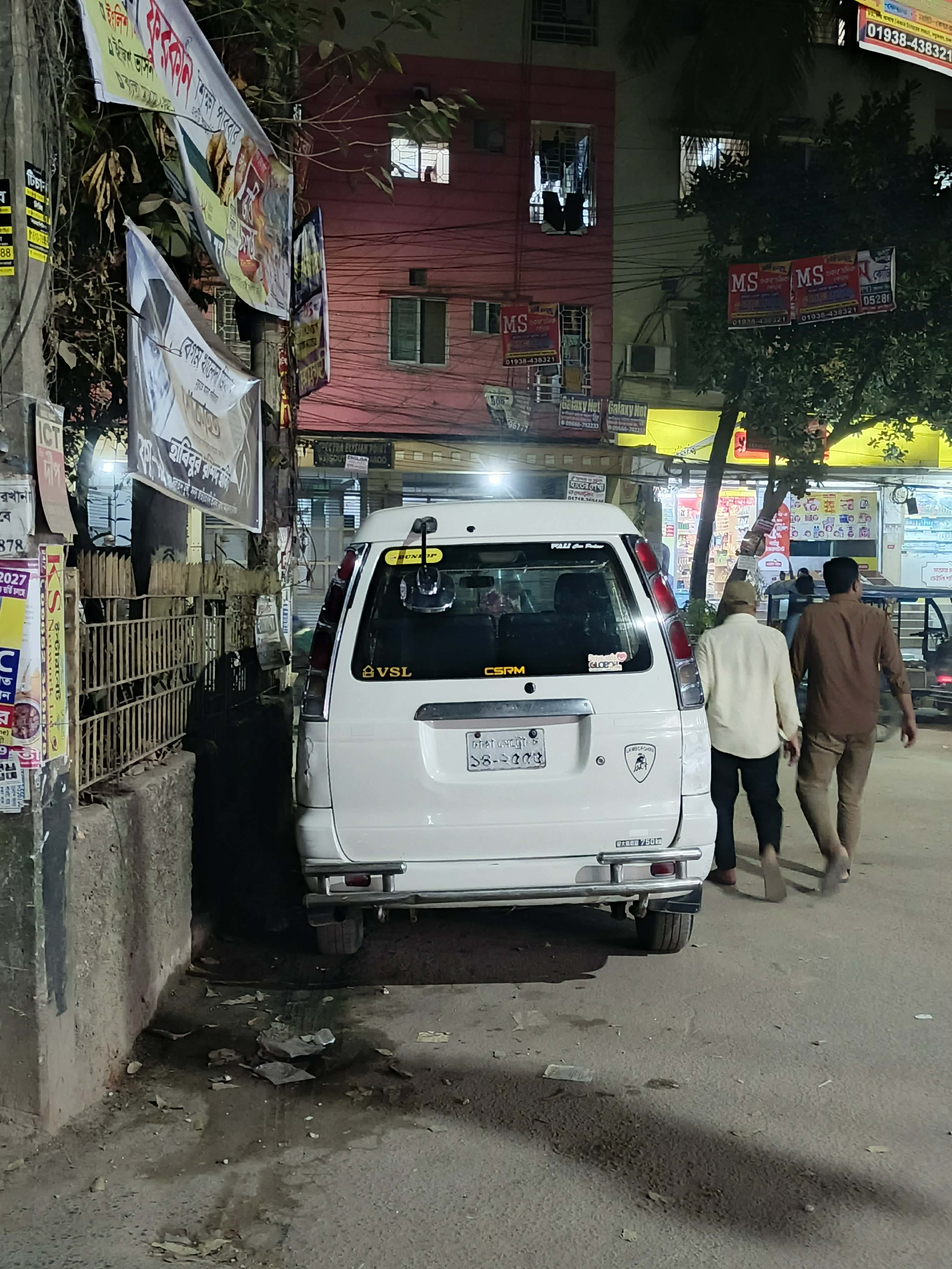private car: (275, 482, 727, 970)
